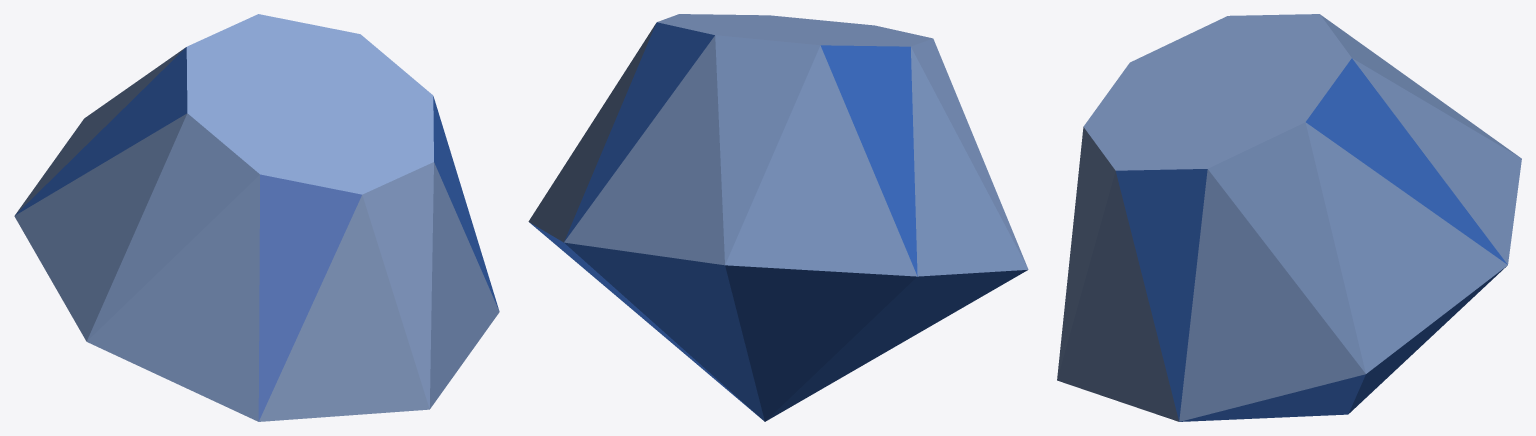
The model's file is item_gem_sapphire.glb.
The picture shows the model from 3 angles, left to right: view 1: azimuth 30°, elevation 25°; view 2: azimuth 150°, elevation 25°; view 3: azimuth 270°, elevation 25°; orthographic projection. The views are drawn at different scales.
Visible parts, largest first — view 1: item_gem_sapphire_gloss; view 2: item_gem_sapphire_gloss; view 3: item_gem_sapphire_gloss.
Boxes of the visible parts, bbox=[...] form: item_gem_sapphire_gloss: bbox=[14, 14, 499, 421]; item_gem_sapphire_gloss: bbox=[528, 14, 1028, 421]; item_gem_sapphire_gloss: bbox=[1057, 14, 1521, 421].
Size of the model in its own units: 0.2484 by 0.2105 by 0.2333.
